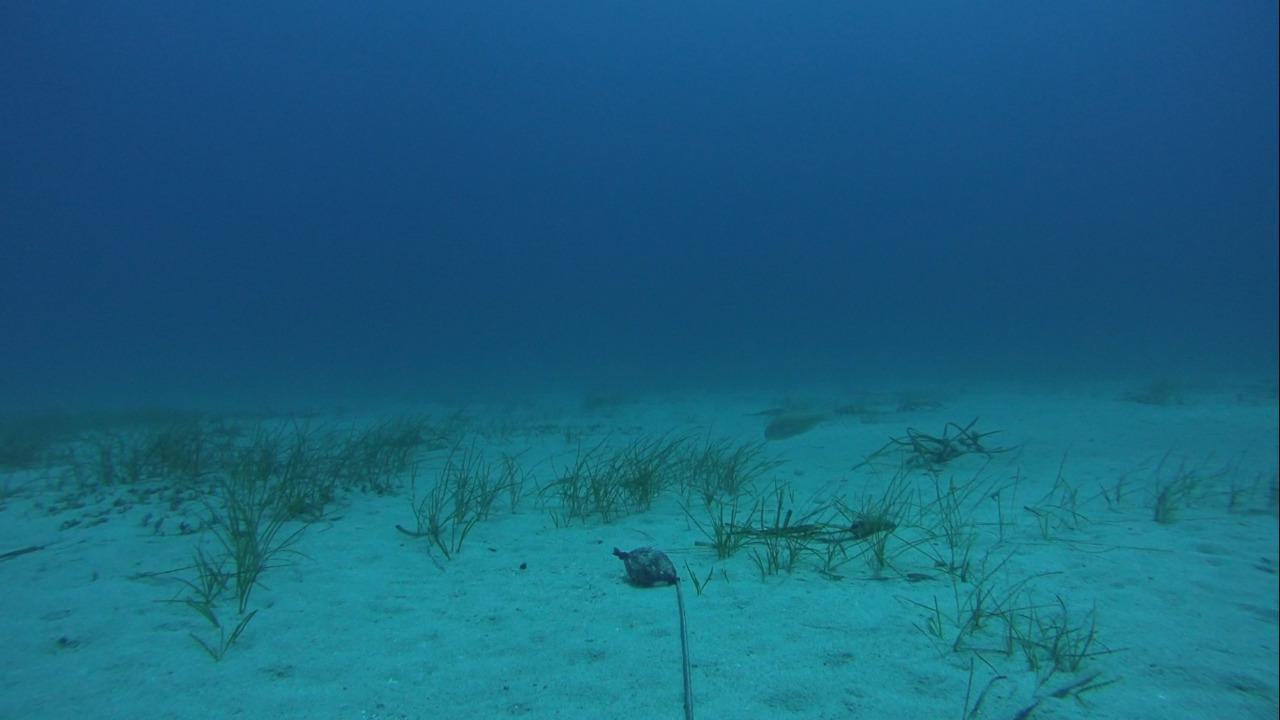raor: (760, 408, 836, 440)
